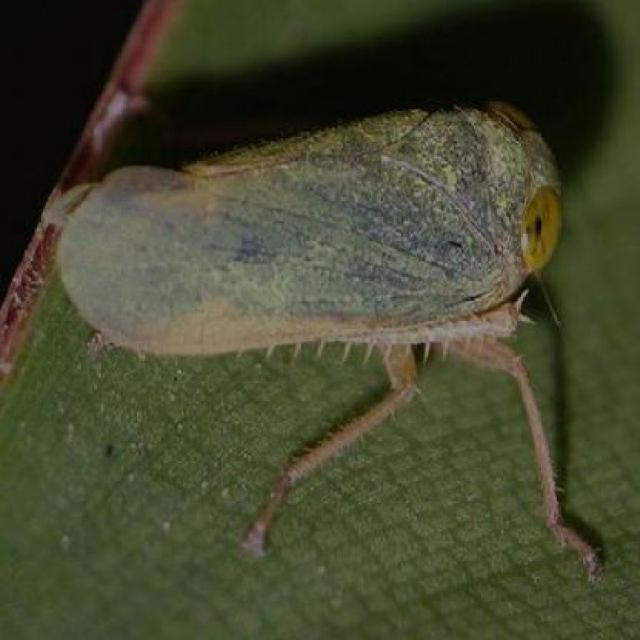green-leafhopper: (51, 109, 574, 362)
